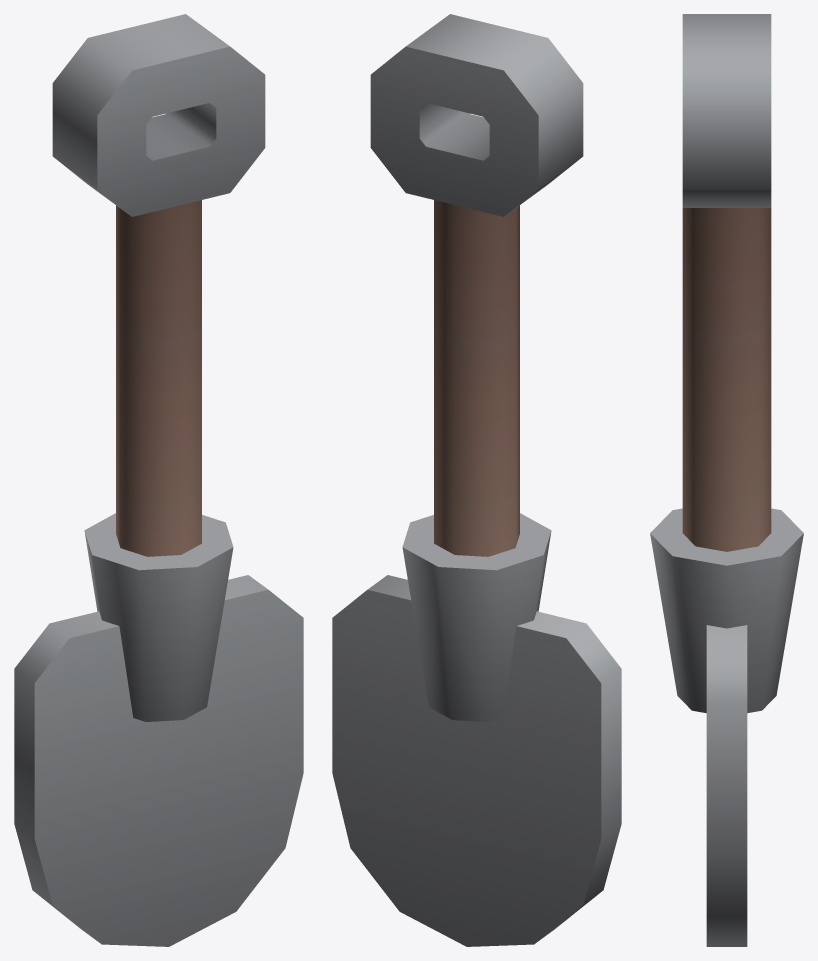
Rendered from shovel.glb.
3 renders of one model, left to right at view 1: azimuth 30°, elevation 25°; view 2: azimuth 150°, elevation 25°; view 3: azimuth 270°, elevation 25°, orthographic.
Visible parts, largest first — view 1: shovel; view 2: shovel; view 3: shovel.
Part boxes in pixels (x1,y1,x2,y2): shovel: (14, 14, 303, 946); shovel: (332, 14, 621, 946); shovel: (650, 14, 803, 946).
Size of the model in its own units: 0.288 by 0.9183 by 0.1431.
1 material, 1 textured.
